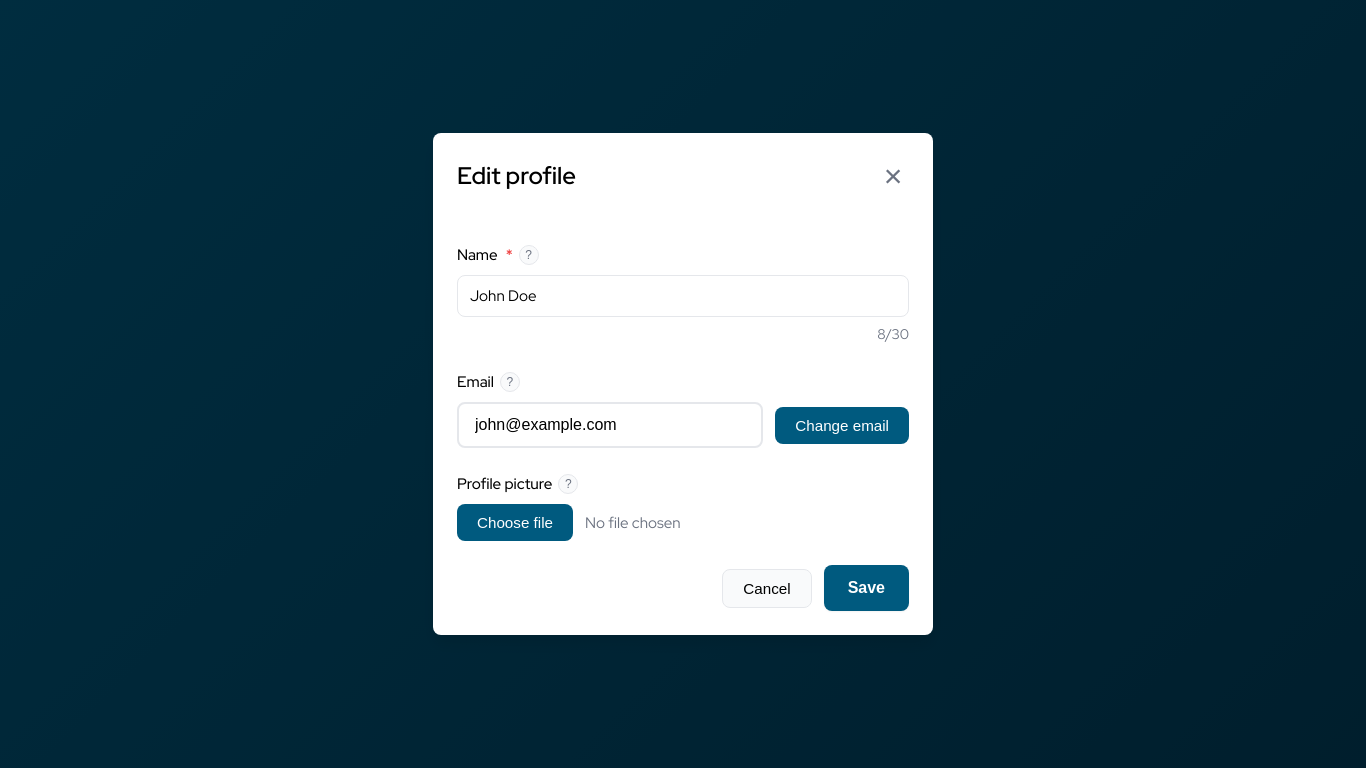
it: EditProfileModal › should close error message when close button is clicked
The width and height of the screenshot is (1366, 768).
Click the button "Save" at (866, 588), box left=824, top=565, right=909, bottom=611
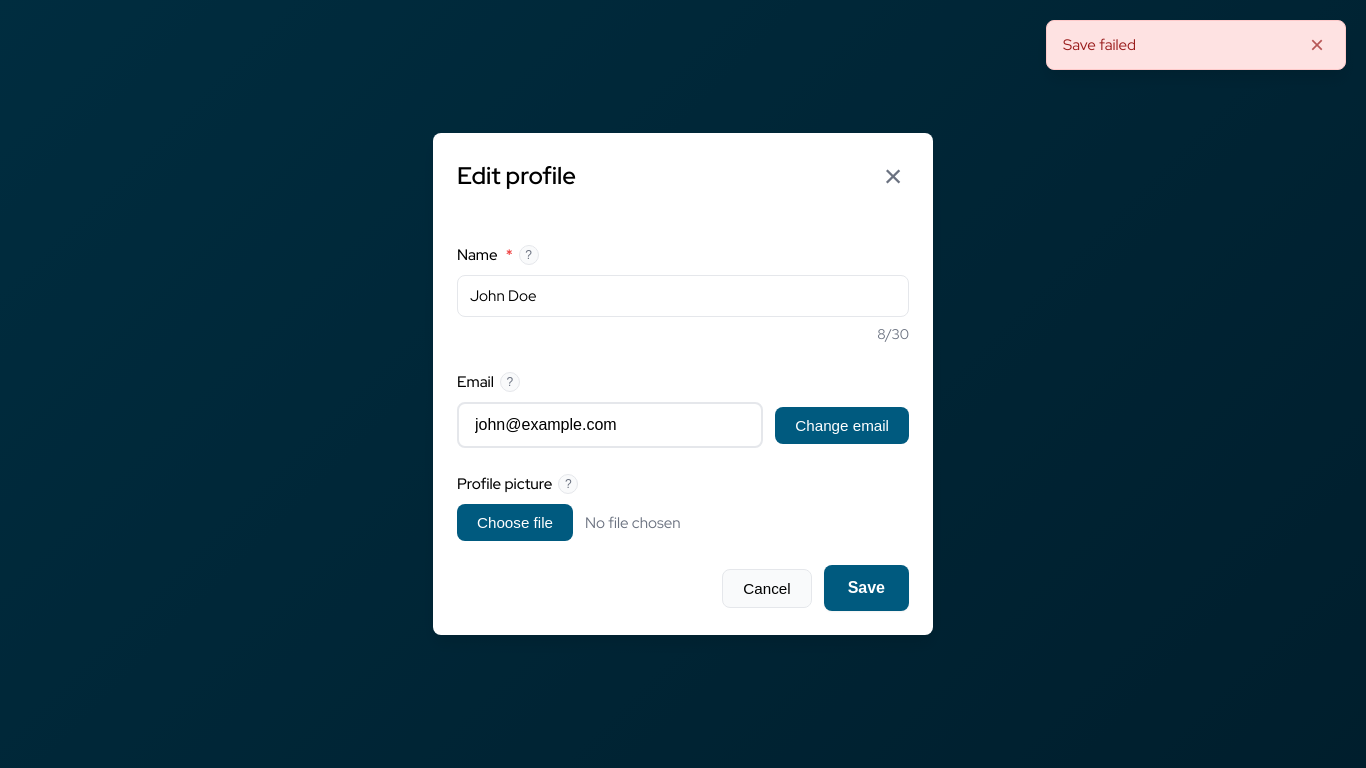
Expected: the text "Save failed" is shown, left=1063, top=35, right=1136, bottom=55
Click the button named "close" at (1317, 45), box left=1305, top=33, right=1329, bottom=57
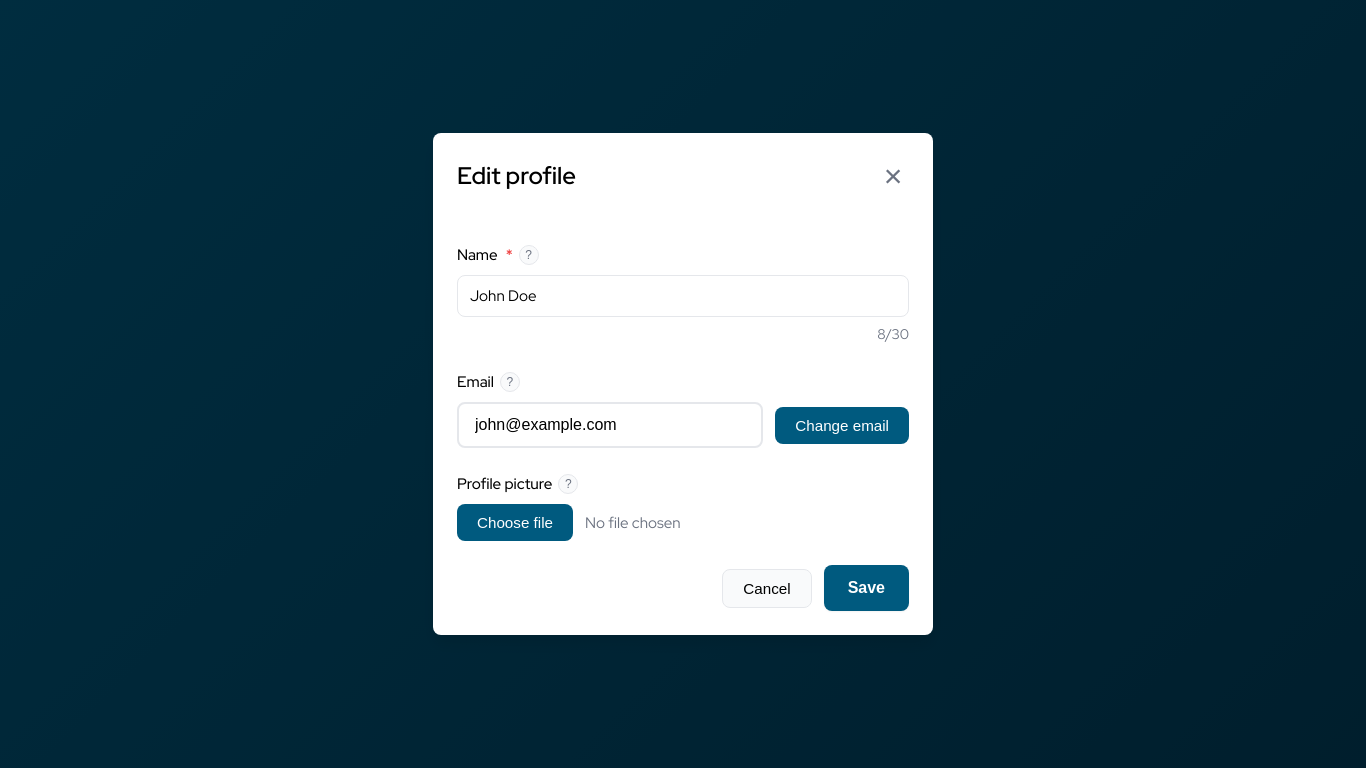
Expected: the text "Save failed" is gone
